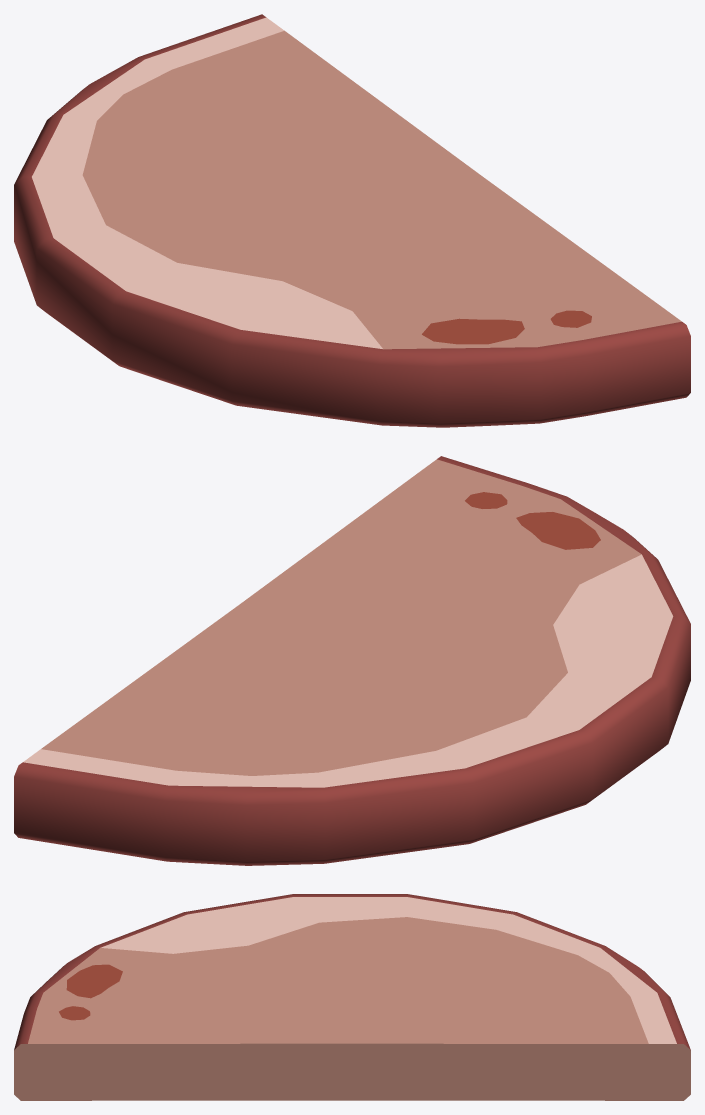
File: Ham_half_Hotdog.fbx
3 renders of one model, top to bottom at view 1: azimuth 30°, elevation 25°; view 2: azimuth 150°, elevation 25°; view 3: azimuth 270°, elevation 25°, orthographic. The views are drawn at different scales.
Visible parts, largest first — view 1: Ham_half_Hotdog; view 2: Ham_half_Hotdog; view 3: Ham_half_Hotdog.
Boxes of the visible parts, <box> form: Ham_half_Hotdog: <box>14,14,690,427</box>; Ham_half_Hotdog: <box>14,456,690,865</box>; Ham_half_Hotdog: <box>14,894,690,1100</box>.
Size of the model in its own units: 42.55 by 79.62 by 7.37.
